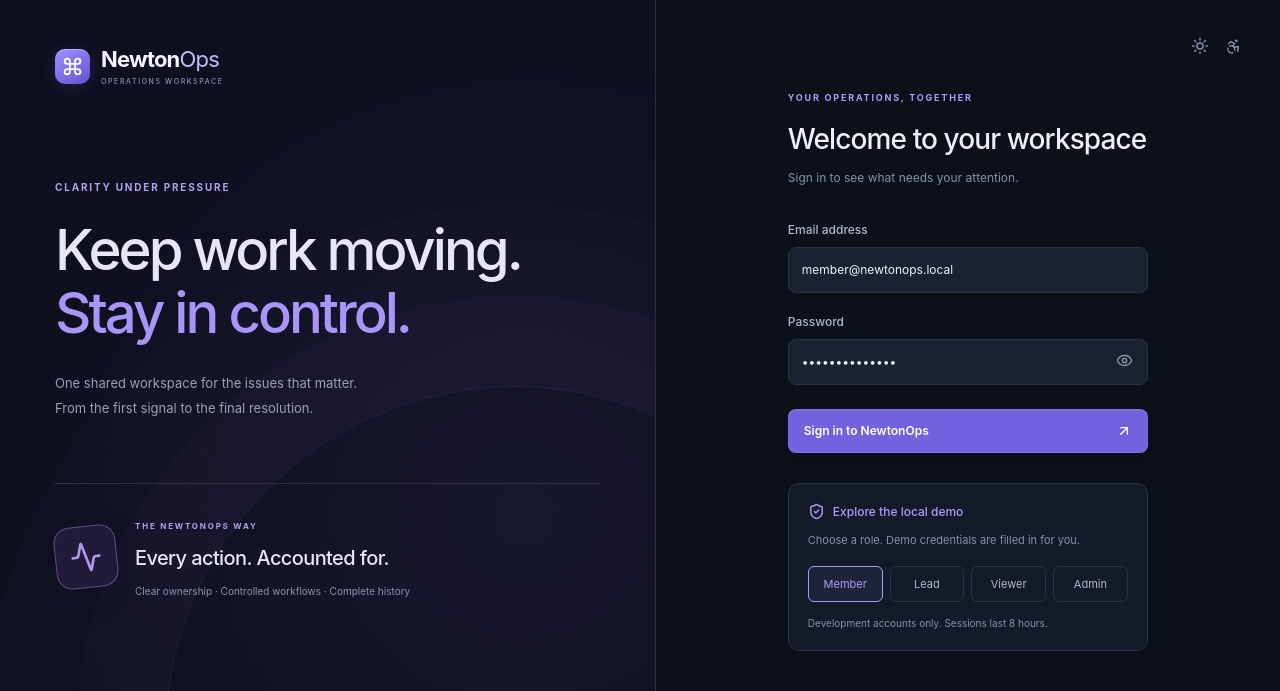
Test case: connected workspace › shows an authentication error without entering the workspace
The image size is (1280, 691).
Click the button "Sign in to NewtonOps": (866,430) [788,409,1148,453]
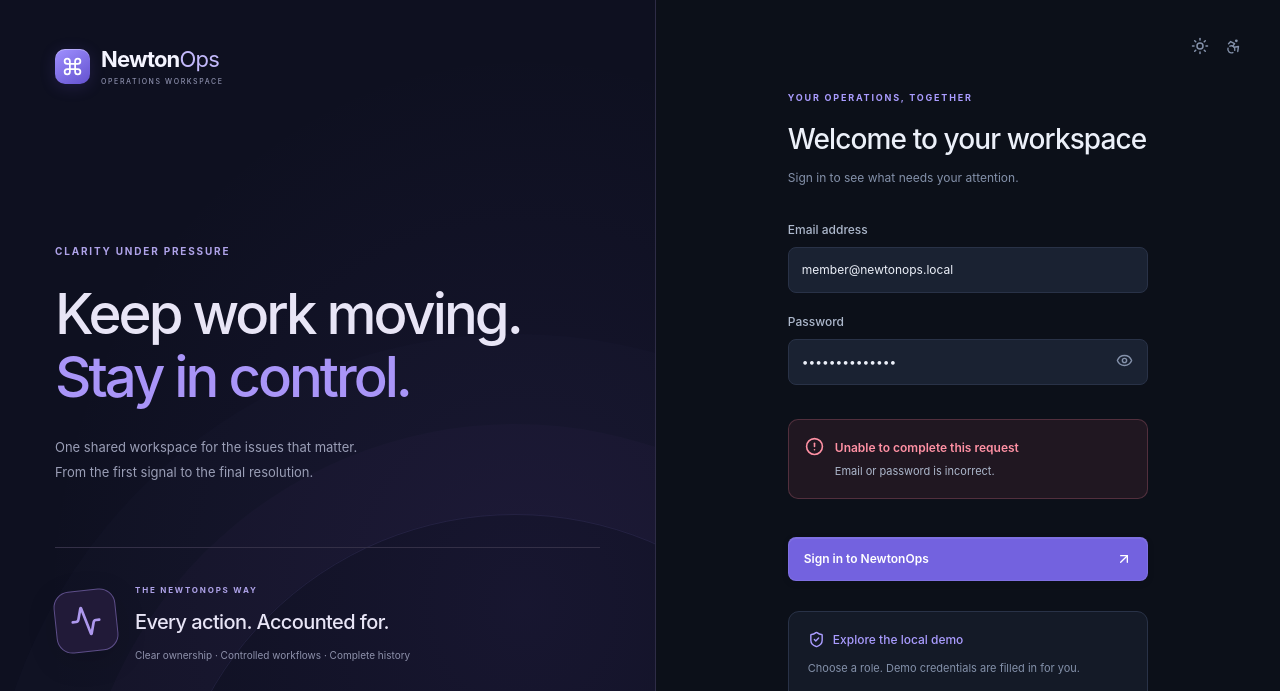
Expected: the message shows "Email or password is incorrect.", [835,464,995,478]
